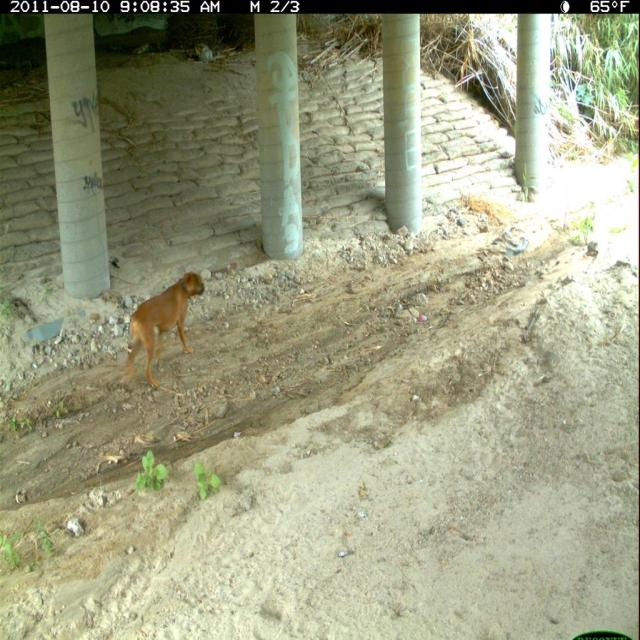dog: (125, 268, 208, 392)
